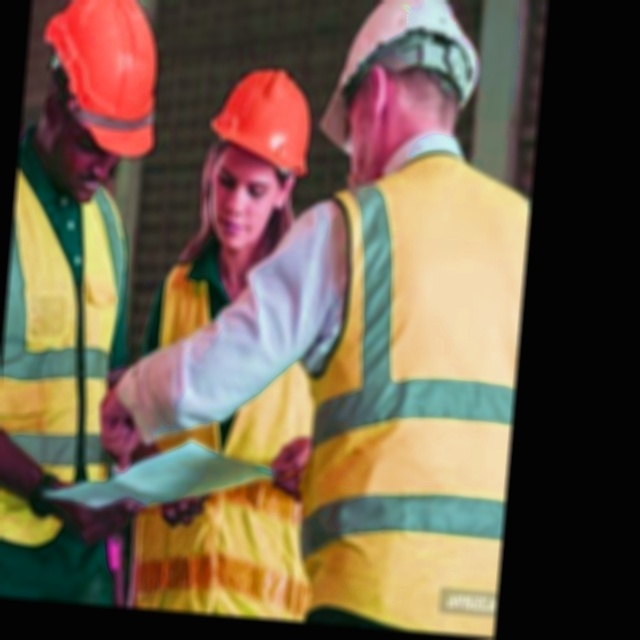Con_Casco: (316, 0, 484, 196), (28, 0, 163, 212), (200, 61, 313, 254)
Con_Chaleco: (292, 162, 528, 633), (0, 175, 141, 550)
